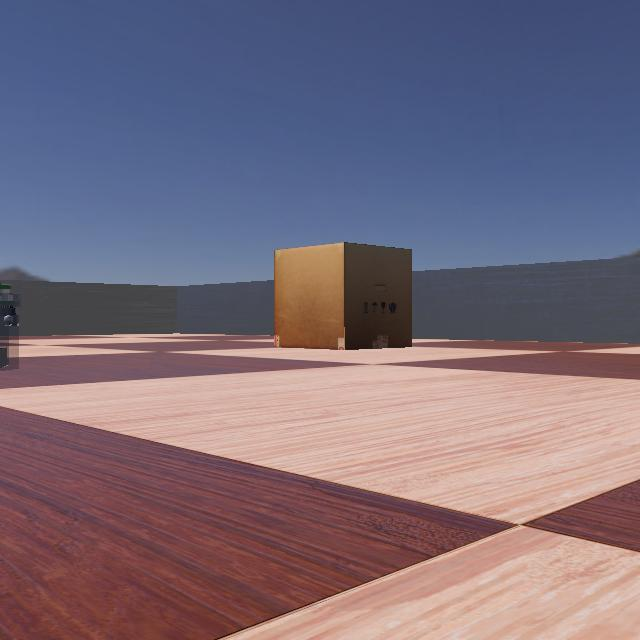cardboard-box: (268, 241, 422, 349)
